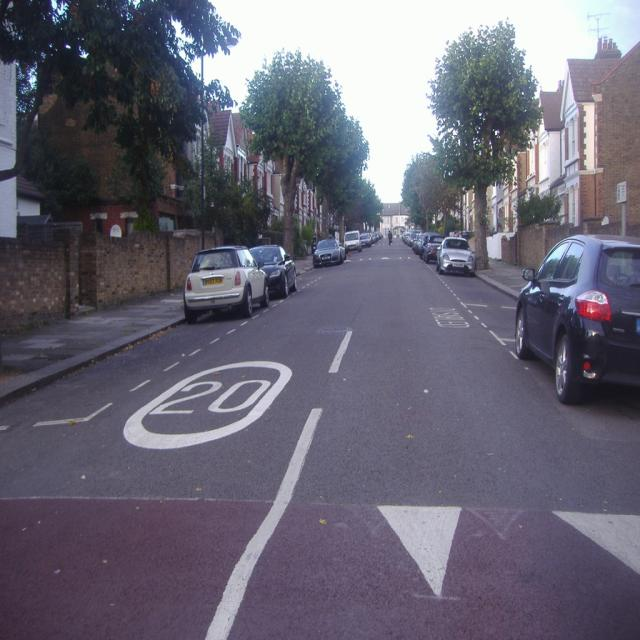car: (509, 228, 639, 404), (174, 236, 280, 317), (399, 225, 477, 270), (247, 238, 297, 291), (312, 235, 344, 267), (344, 225, 381, 246)
